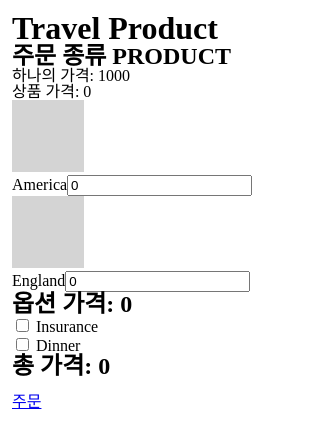
calculate test › update options's total when options change
Expected: the heading "옵션 가격: 0" is shown, [12,291,132,317]
Clear the checkbox labelled "Insurance" at (22, 326), box [16,319,29,332]
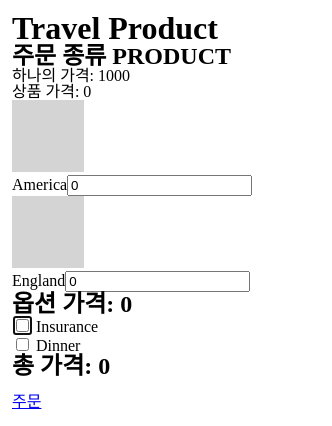
Click the checkbox labelled "Insurance" at (22, 326), box [16,319,29,332]
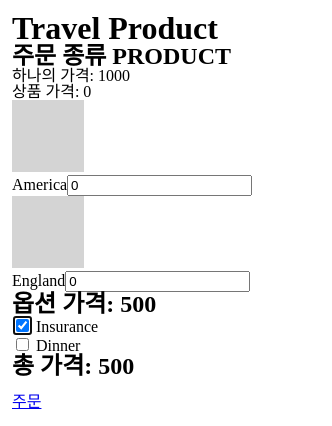
Expected: the heading "옵션 가격: 500" is shown, [12,291,156,317]
Clear the checkbox labelled "Dinner" at (22, 344), box [16,338,29,351]
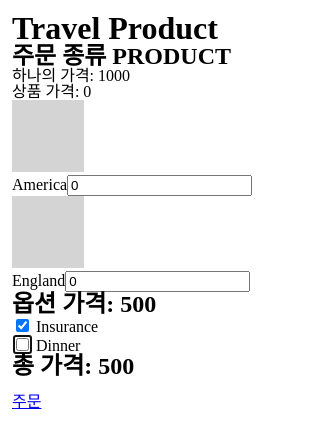
Click the checkbox labelled "Dinner" at (22, 344), box [16,338,29,351]
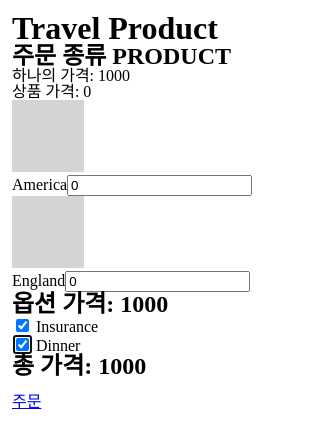
Expected: the heading "옵션 가격: 1000" is shown, [12,291,168,317]
Click the checkbox labelled "Dinner" at (22, 344), box [16,338,29,351]
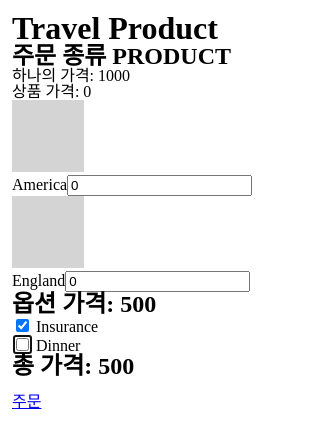
Expected: the heading "옵션 가격: 500" is shown, [12,291,156,317]
